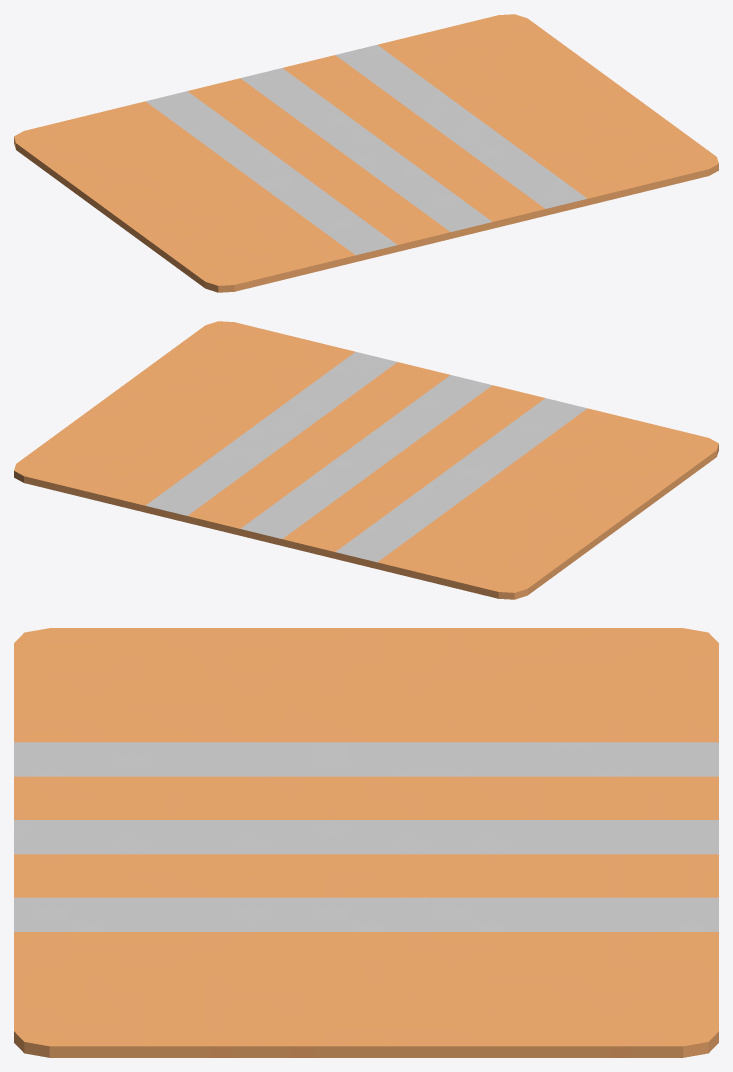
Rendered from Carpet_02_04.fbx.
3 views of the same model, one above another, from view 1: azimuth 30°, elevation 25°; view 2: azimuth 150°, elevation 25°; view 3: azimuth 270°, elevation 25° (orthographic). The views are drawn at different scales.
Visible parts, largest first — view 1: Carpet_02_04; view 2: Carpet_02_04; view 3: Carpet_02_04.
Boxes of the visible parts, box(x1,y1,x2,y2) form: Carpet_02_04: box(14, 14, 718, 292); Carpet_02_04: box(14, 321, 718, 599); Carpet_02_04: box(14, 628, 718, 1057).
Size of the model in its own units: 1.56 by 0.0201 by 1.11.
